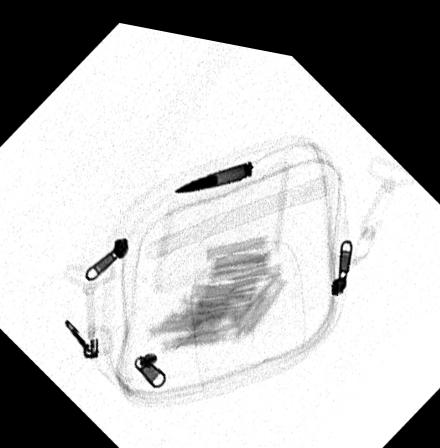Bullet: (172, 149, 258, 186)
